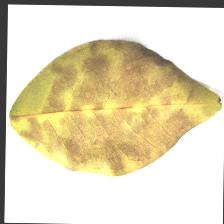black spot: (42, 62, 164, 154)
